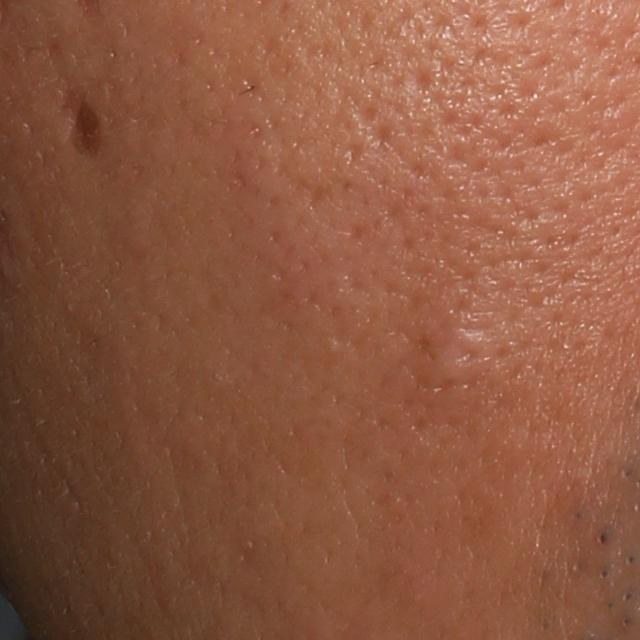hypertrophic_scar: (419, 323, 505, 389)
